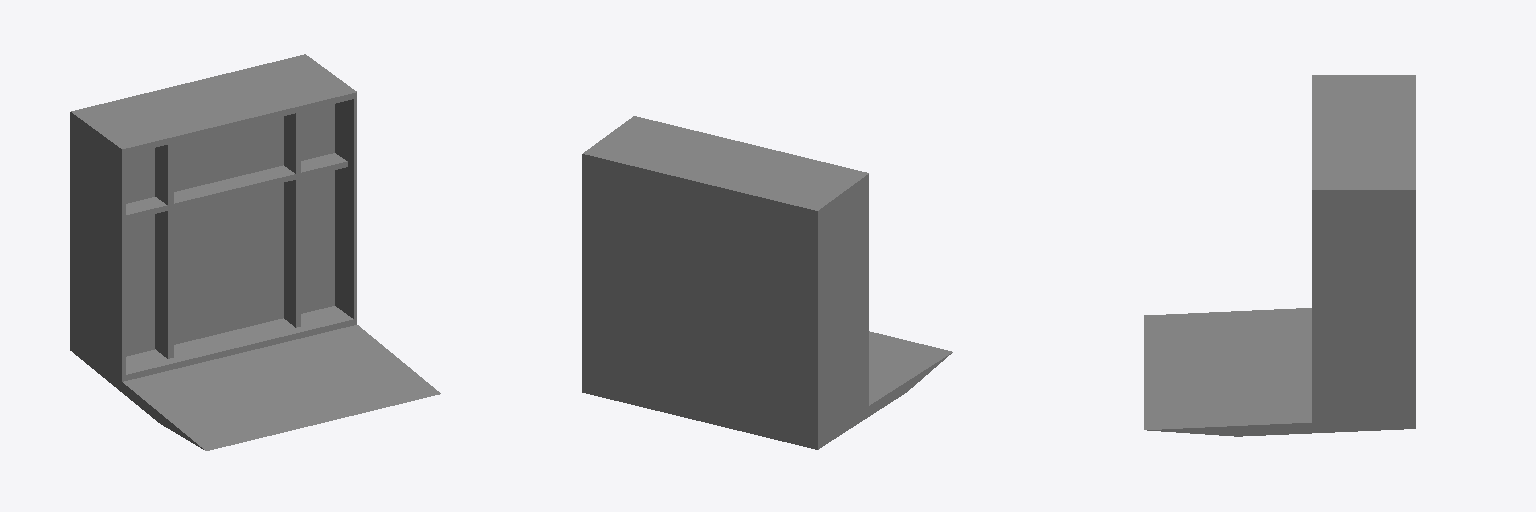
File: window_big_complex.obj
3 renders of one model, left to right at view 1: azimuth 30°, elevation 25°; view 2: azimuth 150°, elevation 25°; view 3: azimuth 270°, elevation 25°, orthographic.
Parts seen in each view (by area): view 1: raam01; view 2: raam01; view 3: raam01.
Boxes of the visible parts, x1=… form: raam01: x1=70, y1=54, x2=440, y2=450; raam01: x1=582, y1=116, x2=952, y2=449; raam01: x1=1144, y1=75, x2=1415, y2=436.
Size of the model in its own units: 12.79 by 12.81 by 12.81.